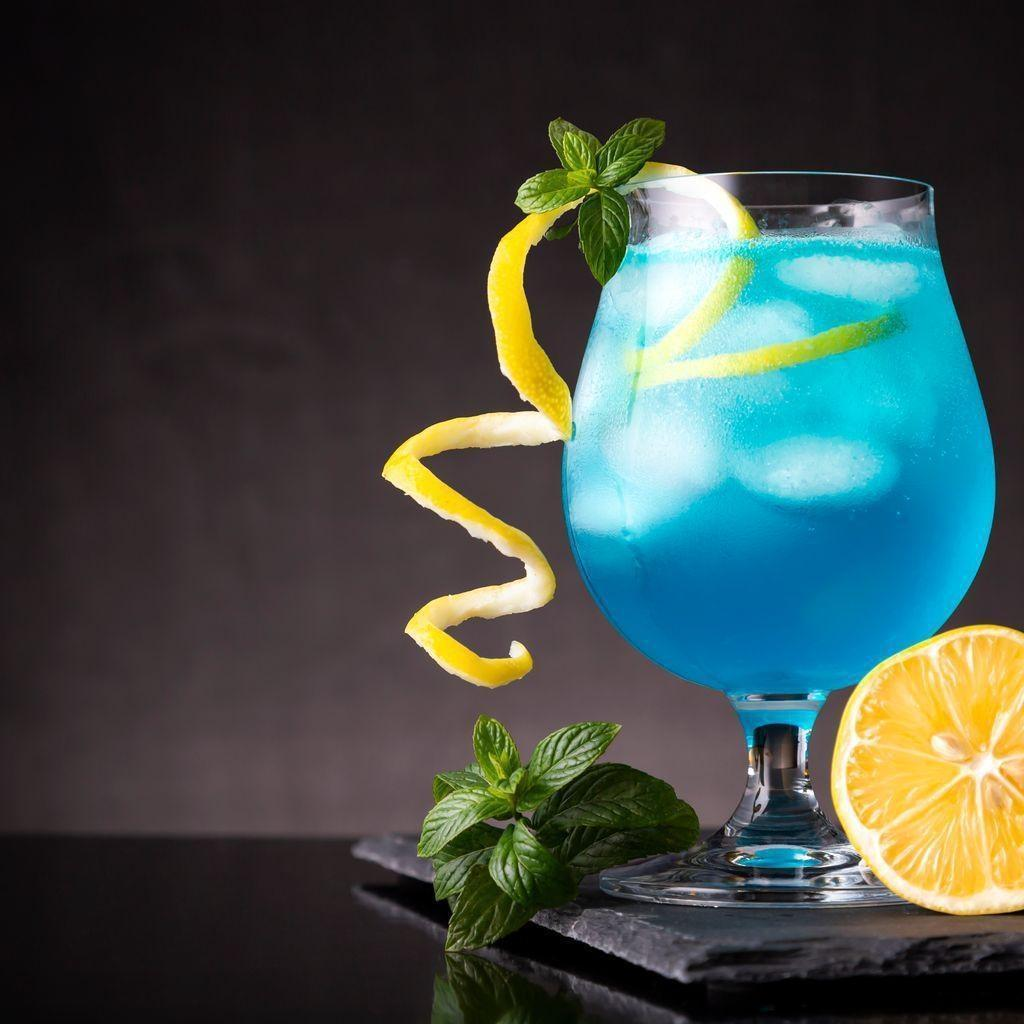glass-wine: (560, 167, 997, 904)
